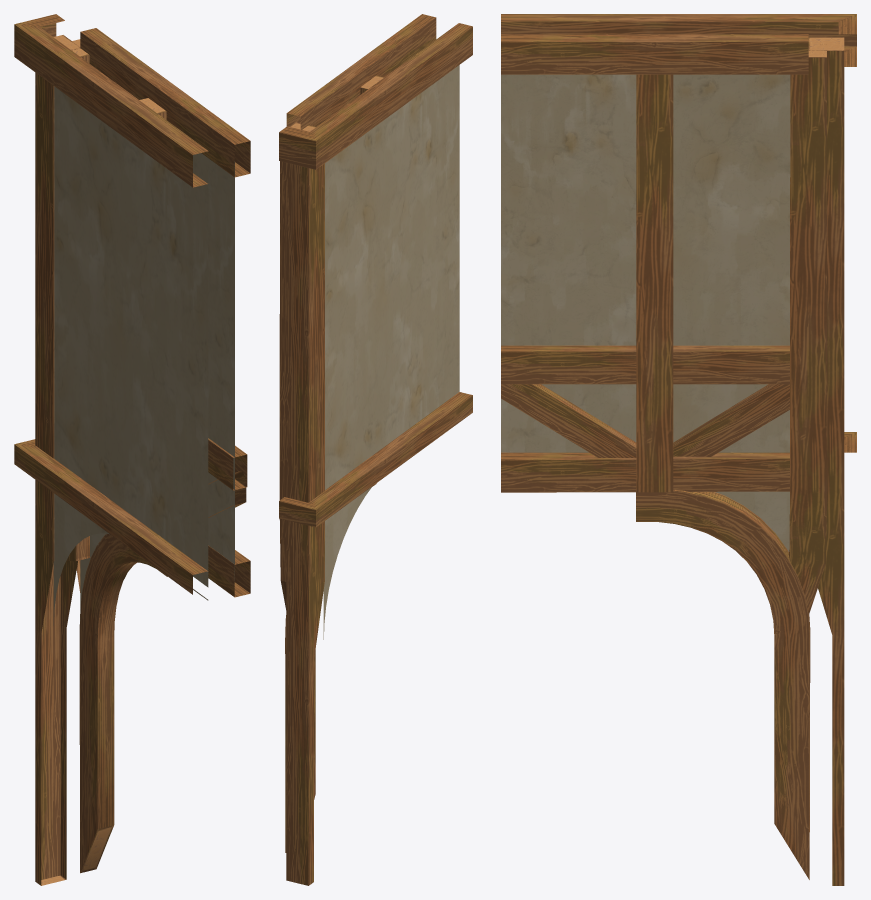
File: Overhang_Side_Plaster_Long_R.obj
The picture shows the model from 3 angles, left to right: view 1: azimuth 30°, elevation 25°; view 2: azimuth 150°, elevation 25°; view 3: azimuth 270°, elevation 25°; orthographic projection. The views are drawn at different scales.
Parts seen in each view (by area): view 1: Overhang_Side_Plaster_Long_R; view 2: Overhang_Side_Plaster_Long_R; view 3: Overhang_Side_Plaster_Long_R.
Part boxes in pixels (x1,y1,x2,y2): Overhang_Side_Plaster_Long_R: (14, 14, 250, 885); Overhang_Side_Plaster_Long_R: (279, 14, 472, 885); Overhang_Side_Plaster_Long_R: (501, 14, 856, 885).
Size of the model in its own units: 0.4793 by 6.12 by 2.31.
